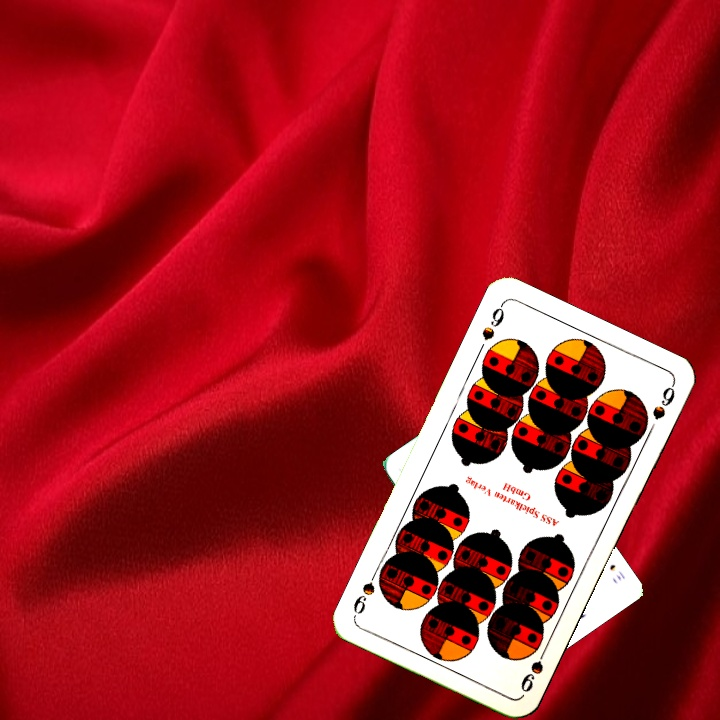S10: (605, 560, 628, 583)
S9: (516, 641, 551, 695), (477, 299, 507, 343)
